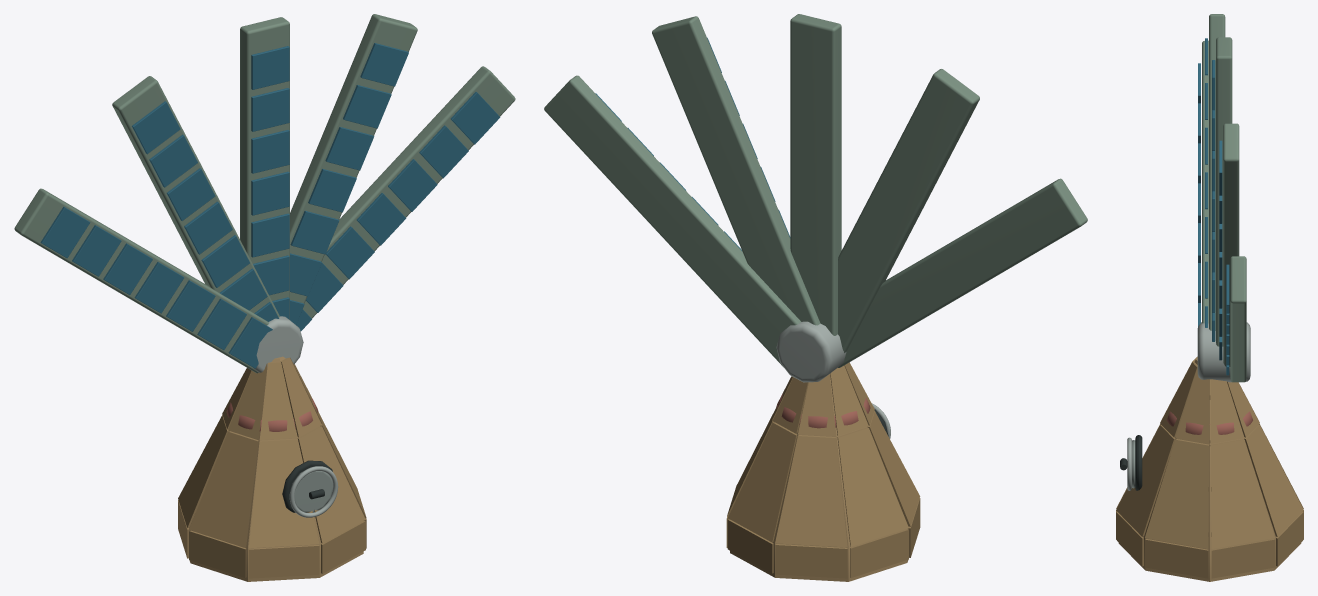
3 views of the same model, side by side, from view 1: azimuth 30°, elevation 25°; view 2: azimuth 150°, elevation 25°; view 3: azimuth 270°, elevation 25° (orthographic). The views are drawn at different scales.
Parts seen in each view (by area): view 1: Generator tapered casing, Upright collector blade.003, Upright collector blade.002, Upright collector blade.004, Upright collector blade, Upright collector blade.001, Generator fan hinge, Tapered spire, Generator collector cell strip.020, Generator collector cell strip.016, Generator collector cell strip.017, Generator collector cell strip.018 (+30 smaller); view 2: Generator tapered casing, Upright collector blade.004, Upright collector blade.003, Upright collector blade.002, Upright collector blade.001, Upright collector blade, Generator fan hinge, Tapered spire, Spire collar; view 3: Generator tapered casing, Upright collector blade.003, Upright collector blade.002, Upright collector blade.004, Tapered spire, Upright collector blade.001, Generator fan hinge, Upright collector blade, Spire collar, Generator conversion module dark gasket, Generator conversion module rim.
Part boxes in pixels (x1=…): Generator tapered casing: x1=178, y1=357, x2=366, y2=578; Upright collector blade.003: x1=290, y1=14, x2=417, y2=303; Upright collector blade.002: x1=240, y1=17, x2=289, y2=319; Upright collector blade.004: x1=303, y1=66, x2=515, y2=318; Upright collector blade: x1=14, y1=188, x2=268, y2=373; Upright collector blade.001: x1=112, y1=76, x2=279, y2=317; Generator fan hinge: x1=253, y1=316, x2=303, y2=372; Tapered spire: x1=189, y1=356, x2=363, y2=581; Generator collector cell strip.020: x1=251, y1=46, x2=289, y2=89; Generator collector cell strip.016: x1=251, y1=213, x2=289, y2=257; Generator collector cell strip.017: x1=251, y1=171, x2=289, y2=215; Generator collector cell strip.018: x1=251, y1=130, x2=289, y2=173; Generator tapered casing: x1=726, y1=362, x2=920, y2=578; Upright collector blade.004: x1=544, y1=75, x2=800, y2=367; Upright collector blade.003: x1=652, y1=16, x2=820, y2=325; Upright collector blade.002: x1=790, y1=14, x2=841, y2=335; Upright collector blade.001: x1=838, y1=69, x2=979, y2=352; Upright collector blade: x1=838, y1=178, x2=1087, y2=367; Generator fan hinge: x1=776, y1=321, x2=846, y2=382; Tapered spire: x1=730, y1=374, x2=908, y2=581; Spire collar: x1=776, y1=393, x2=870, y2=428; Generator tapered casing: x1=1116, y1=356, x2=1303, y2=578; Upright collector blade.003: x1=1223, y1=123, x2=1239, y2=366; Upright collector blade.002: x1=1216, y1=37, x2=1232, y2=346; Upright collector blade.004: x1=1230, y1=256, x2=1246, y2=382; Tapered spire: x1=1118, y1=358, x2=1301, y2=581; Upright collector blade.001: x1=1209, y1=14, x2=1225, y2=330; Generator fan hinge: x1=1197, y1=322, x2=1250, y2=382; Upright collector blade: x1=1202, y1=40, x2=1208, y2=323; Spire collar: x1=1167, y1=411, x2=1252, y2=434; Generator conversion module dark gasket: x1=1135, y1=435, x2=1142, y2=490; Generator conversion module rim: x1=1127, y1=437, x2=1131, y2=490.
Bounding box in the file's own units: 2.8 × 2.7 × 0.9259.
